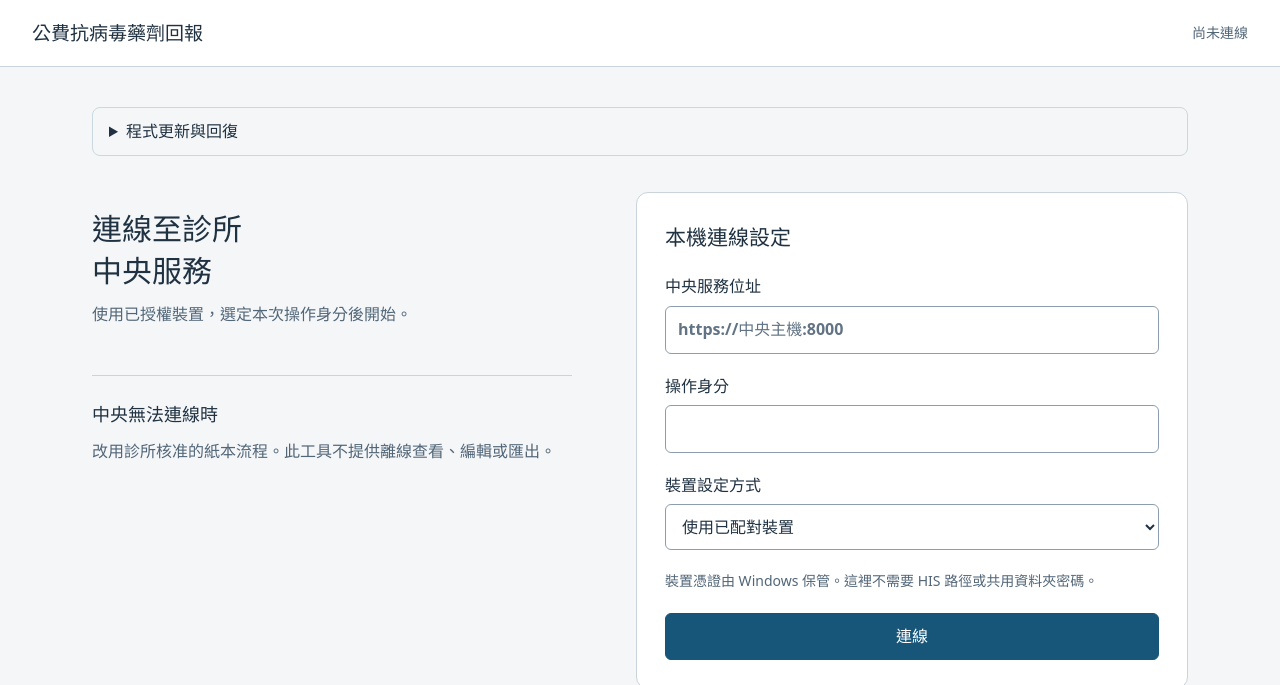
it: unpaired device presents connection setup and an actionable connection error
In the field labelled "中央服務位址": x=912, y=330 [665,306,1159,354], type "https://central.invalid:8000"
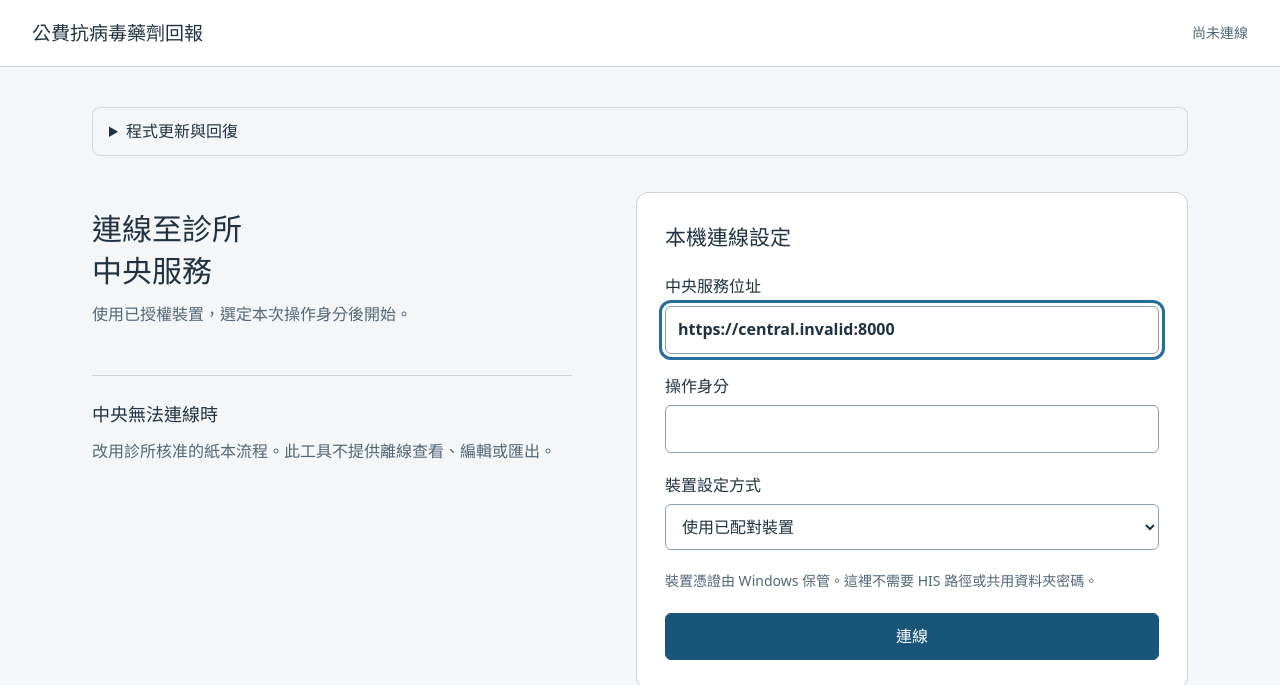
In the field labelled "操作身分": x=912, y=429 [665,405,1159,453], type "測試醫師"
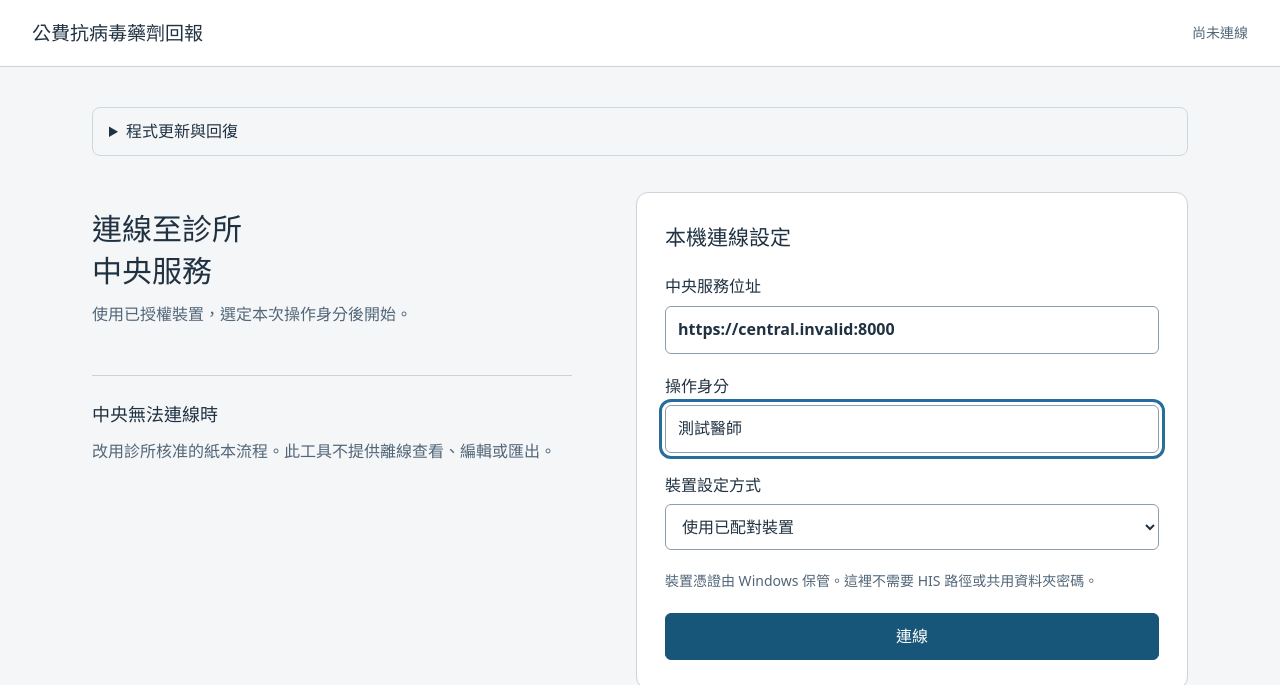
Click the button "連線": x=912, y=636 [665,613,1159,660]
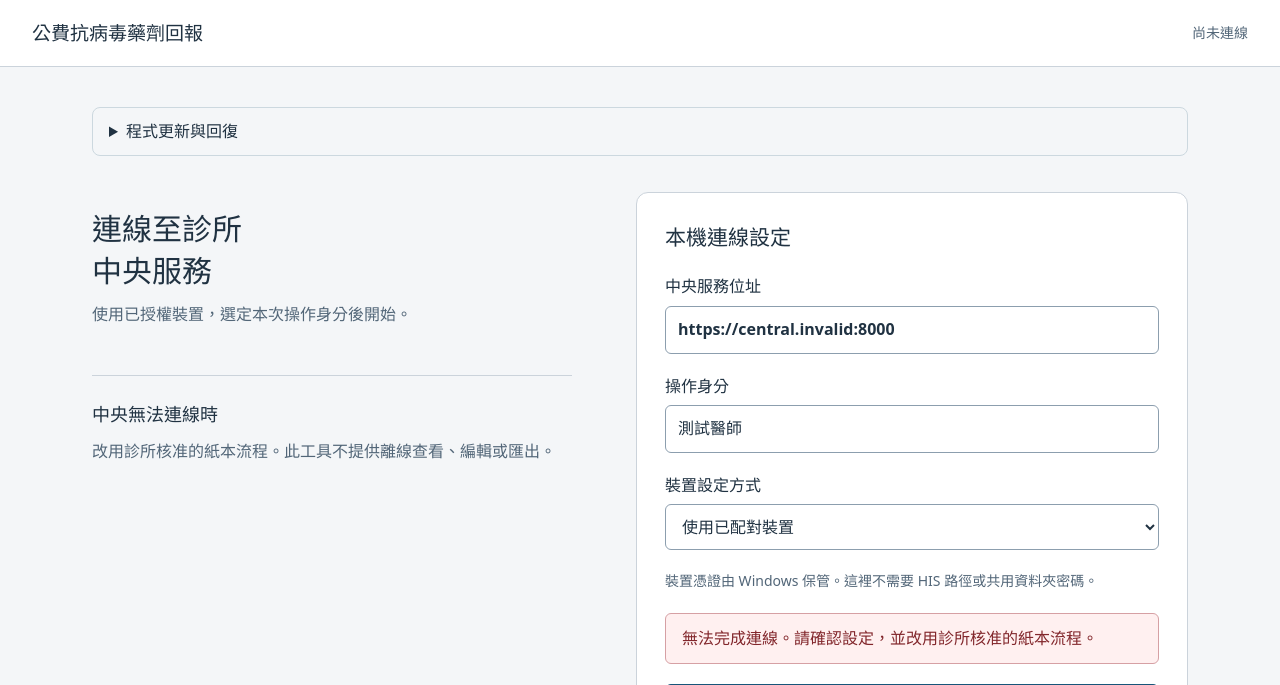
Expected: the message shows "紙本", [665,613,1159,664]
